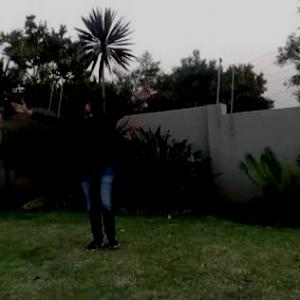takeoff: (24, 77, 154, 265)
